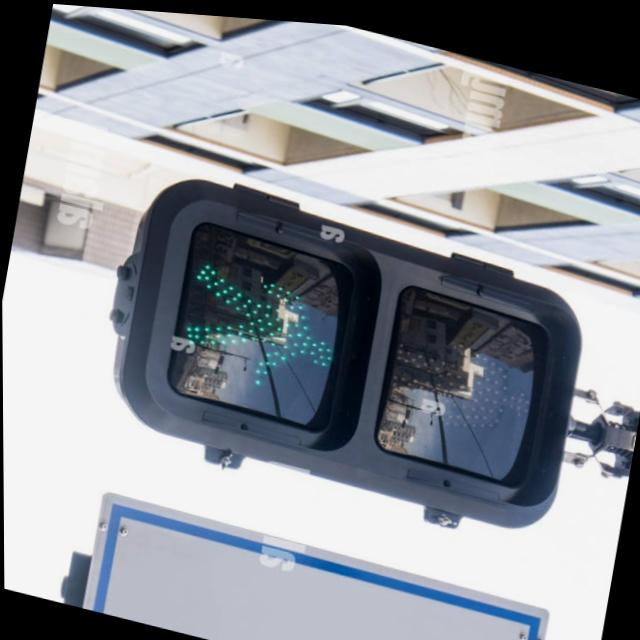green_light: (181, 243, 352, 398)
